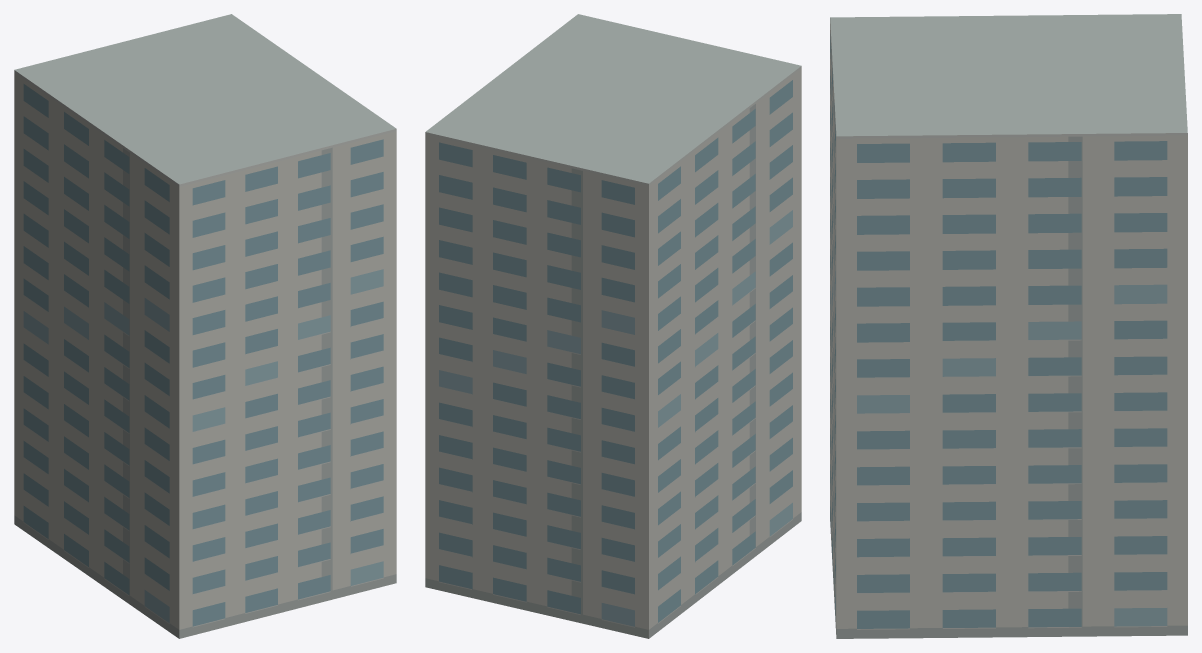
Rendered from residential-4fe31732-303b-4fc7-a2c0-b4a462ecf8a2.glb.
3 renders of one model, left to right at view 1: azimuth 30°, elevation 25°; view 2: azimuth 150°, elevation 25°; view 3: azimuth 270°, elevation 25°, orthographic. The views are drawn at different scales.
Visible parts, largest first — view 1: residential-4fe31732-303b-4fc7-a2c0-b4a462ecf8a2.tmp; view 2: residential-4fe31732-303b-4fc7-a2c0-b4a462ecf8a2.tmp; view 3: residential-4fe31732-303b-4fc7-a2c0-b4a462ecf8a2.tmp.
Part boxes in pixels (left/top/right/bottom): residential-4fe31732-303b-4fc7-a2c0-b4a462ecf8a2.tmp: left=14, top=14, right=396, bottom=638; residential-4fe31732-303b-4fc7-a2c0-b4a462ecf8a2.tmp: left=425, top=14, right=801, bottom=638; residential-4fe31732-303b-4fc7-a2c0-b4a462ecf8a2.tmp: left=830, top=14, right=1187, bottom=638.
Bounding box in the file's own units: 24.01 × 46 × 29.68.
